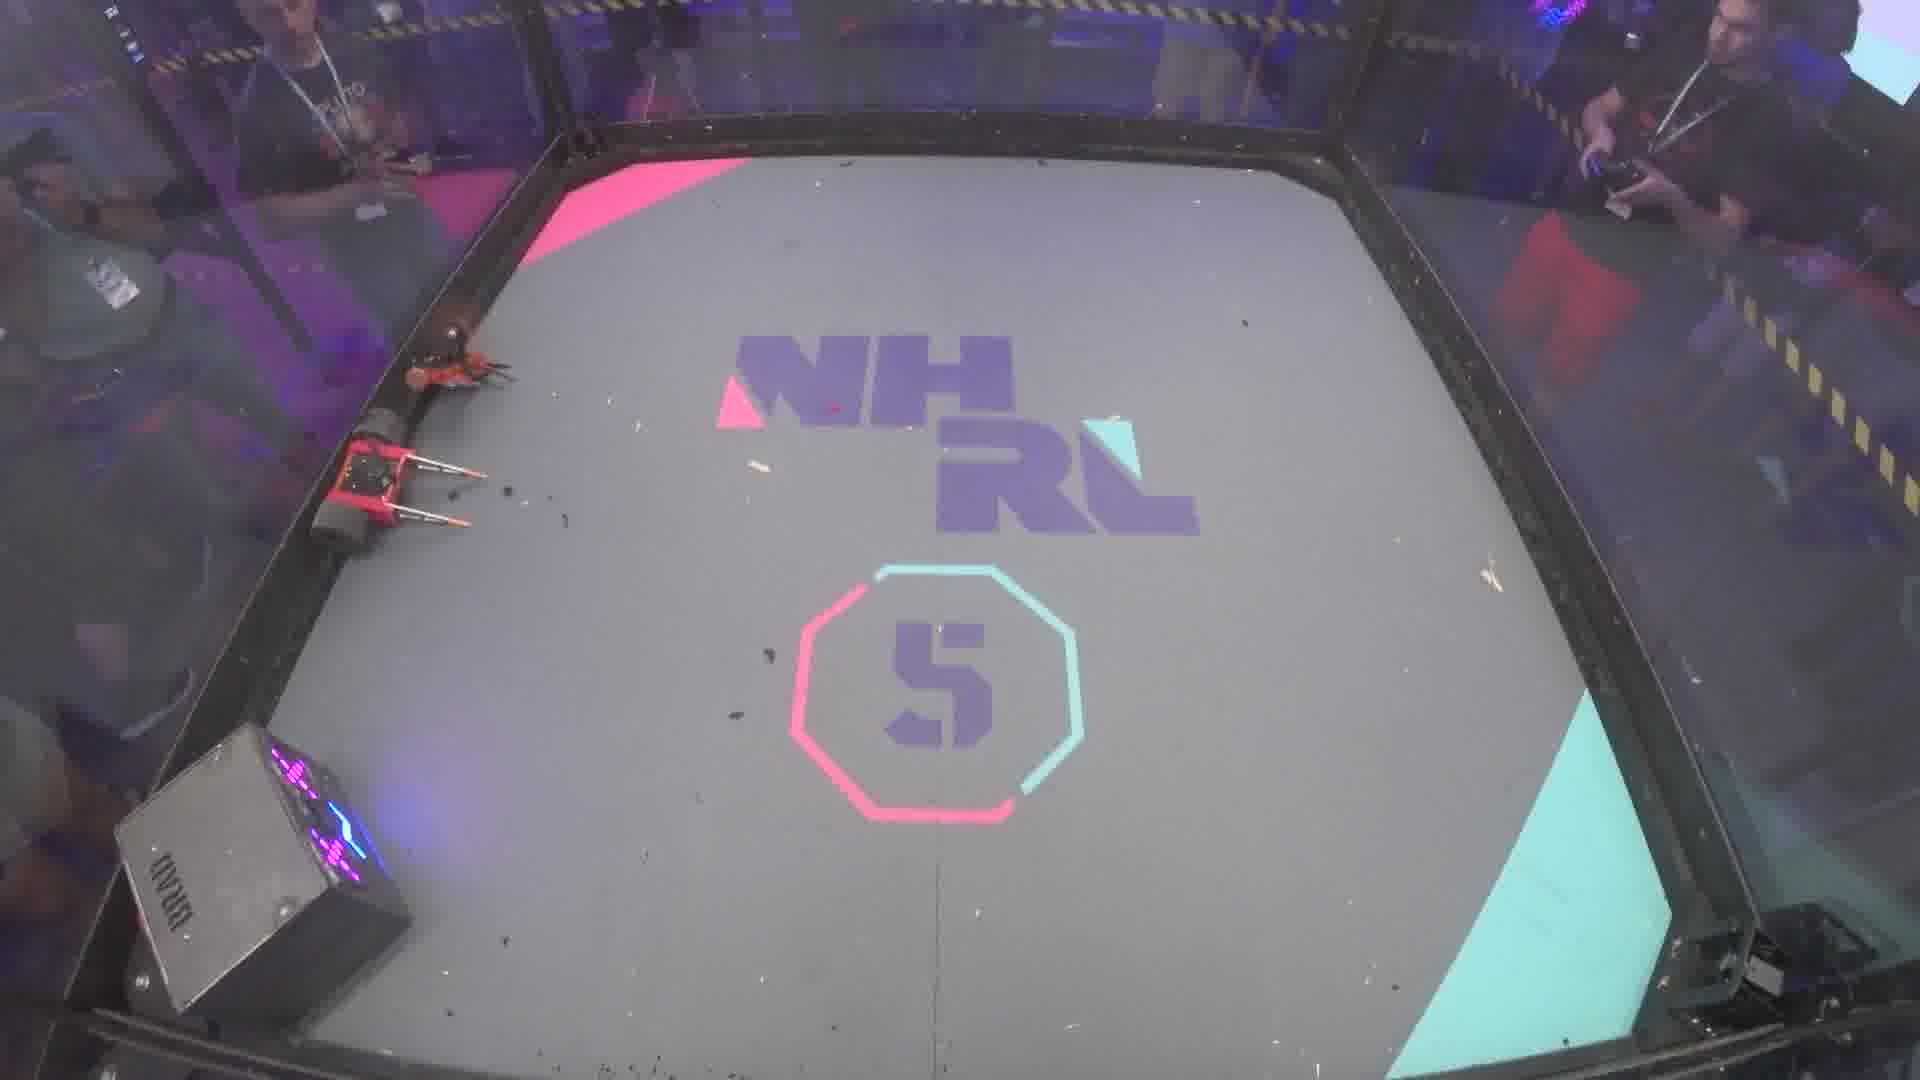combatbot: (314, 409, 489, 555), (402, 322, 518, 405)
housebot: (111, 720, 410, 1023)
